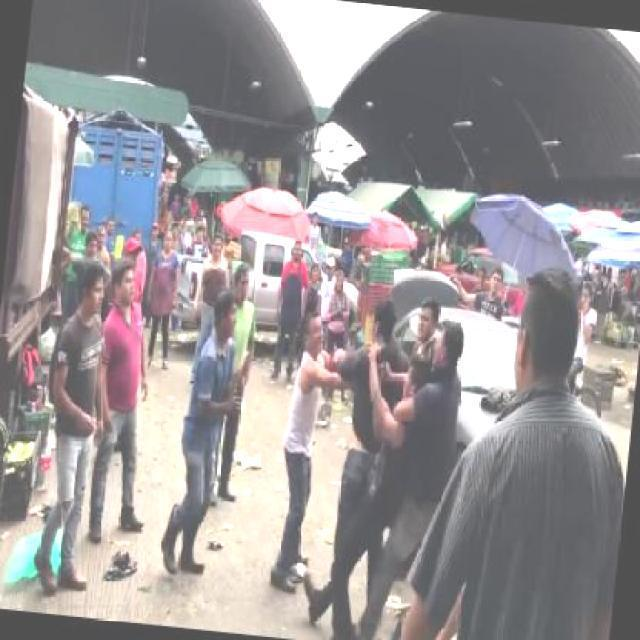fight: (266, 287, 408, 602)
